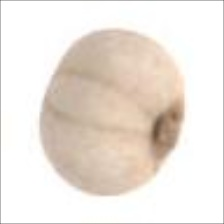L5: (43, 65, 160, 141), (149, 104, 189, 163)
L6: (36, 26, 193, 199)
